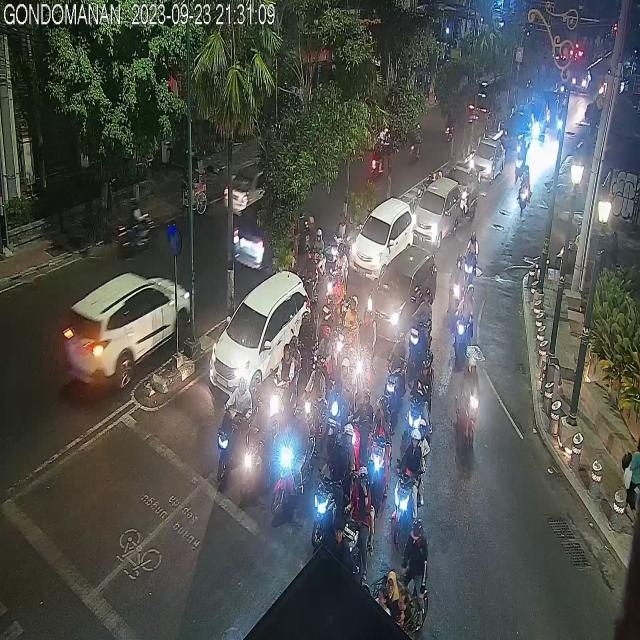car: (60, 272, 196, 388), (208, 273, 312, 395), (364, 246, 439, 344), (232, 198, 312, 268), (350, 198, 412, 280), (410, 178, 458, 248), (222, 160, 267, 210), (468, 142, 506, 180), (502, 111, 532, 156), (468, 90, 498, 129)
motorcycle: (316, 412, 357, 538), (271, 402, 314, 521), (390, 422, 427, 552), (215, 373, 249, 489), (342, 469, 376, 581), (270, 337, 300, 426), (116, 193, 155, 261), (408, 346, 435, 442), (326, 352, 354, 440), (368, 392, 389, 498), (460, 355, 480, 449), (454, 278, 475, 365), (384, 334, 404, 416), (463, 232, 479, 292), (517, 168, 533, 216), (513, 136, 529, 184), (459, 181, 477, 220), (370, 132, 384, 175), (410, 120, 420, 159), (446, 106, 454, 141)
